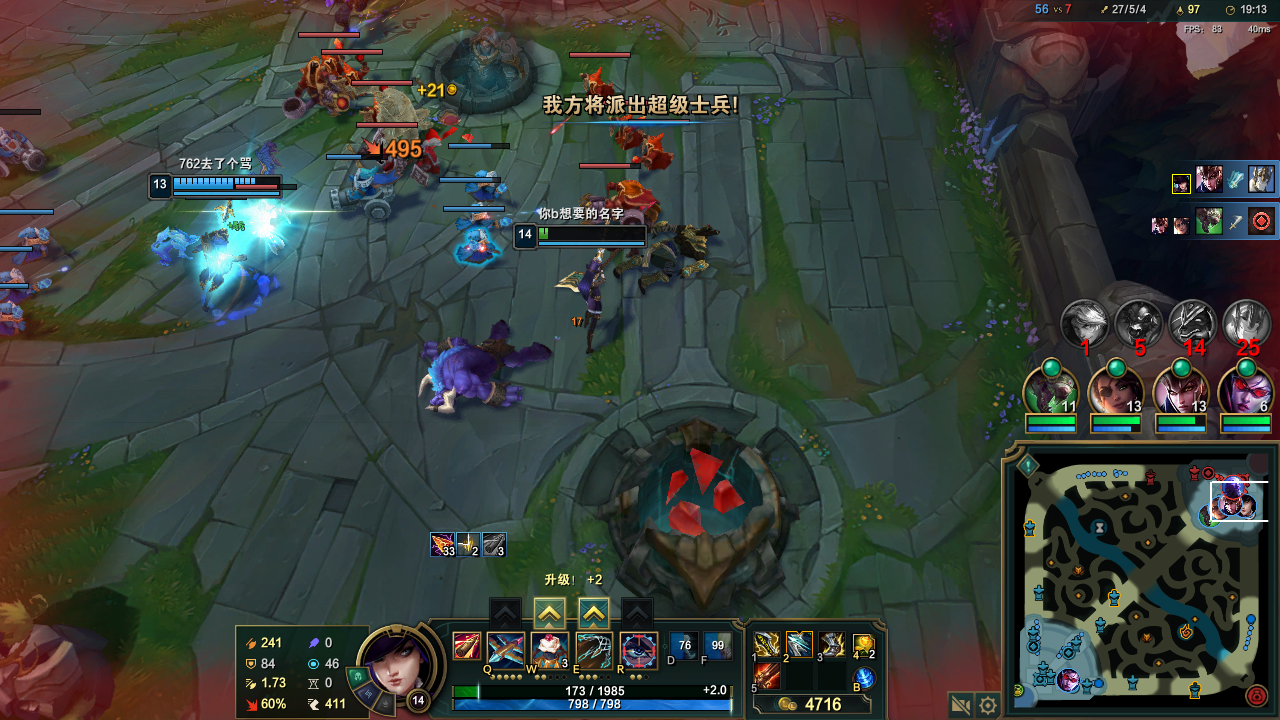DFXB: (578, 187, 656, 232), (639, 141, 680, 173), (581, 78, 619, 102), (315, 51, 348, 76), (335, 64, 365, 87), (618, 123, 643, 150)
Shenji: (581, 605, 608, 623)
Tuijianshengji: (535, 602, 556, 625)
WFXB: (331, 173, 399, 225), (459, 225, 503, 268), (465, 166, 513, 205), (1, 133, 42, 175), (458, 202, 509, 234), (19, 222, 59, 262), (1, 296, 35, 337), (1, 271, 40, 290)
